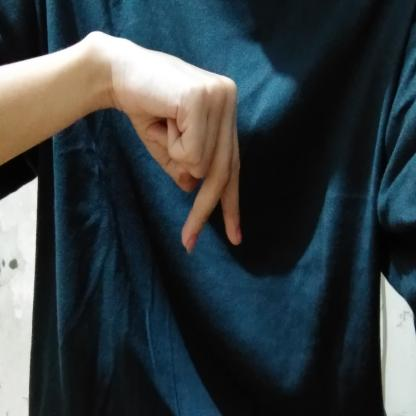run: (83, 26, 262, 258)
